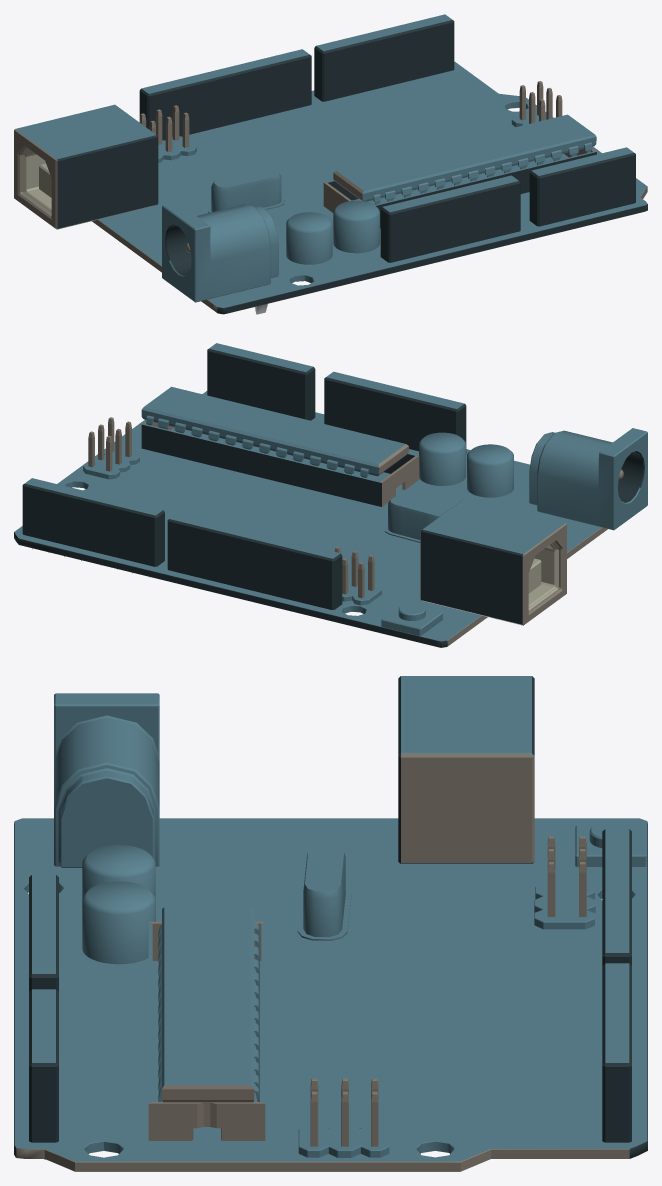
The model's file is Arduino_uno_r3_v2.fbx.
The picture shows the model from 3 angles, top to bottom: view 1: azimuth 30°, elevation 25°; view 2: azimuth 150°, elevation 25°; view 3: azimuth 270°, elevation 25°; orthographic projection. The views are drawn at different scales.
Visible parts, largest first — view 1: Arduino.006, Arduino.009, Arduino.008, Arduino.010, Arduino.005, Arduino.007, Arduino.004, Plane.003, Plane.001, Arduino.001; view 2: Arduino.009, Arduino.006, Arduino.010, Arduino.008, Arduino.005, Arduino.007, Arduino.004, Arduino.003, Plane.001, Plane.003, Arduino.002, Arduino.001; view 3: Arduino.006, Arduino.010, Arduino.008, Arduino.009, Arduino.005, Arduino.007, Arduino.004, Arduino.002, Arduino.001, Arduino.003, Plane.001, Plane.003.
Boxes of the visible parts, x1,y1,x2,y2 form: Arduino.006: (92,61,647,314); Arduino.009: (139,14,635,262); Arduino.008: (14,104,158,229); Arduino.010: (323,114,596,228); Arduino.005: (162,202,278,302); Arduino.007: (286,200,379,264); Arduino.004: (208,168,284,212); Plane.003: (139,105,189,152); Plane.001: (519,81,562,123); Arduino.001: (158,136,196,162); Arduino.009: (22,343,466,609); Arduino.006: (14,391,607,647); Arduino.010: (141,386,419,506); Arduino.008: (420,499,566,625); Arduino.005: (529,428,647,530); Arduino.007: (419,432,513,497); Arduino.004: (384,495,450,542); Arduino.003: (381,603,442,635); Plane.001: (88,417,131,471); Plane.003: (334,546,374,598); Arduino.002: (83,448,139,479); Arduino.001: (342,581,381,605); Arduino.006: (14,818,647,1171); Arduino.010: (148,907,265,1140); Arduino.008: (398,676,534,863); Arduino.009: (29,828,631,1142); Arduino.005: (54,693,159,867); Arduino.007: (82,845,155,964); Arduino.004: (297,845,351,940); Arduino.002: (298,1125,389,1157); Arduino.001: (534,884,595,929); Arduino.003: (575,821,646,866); Plane.001: (310,1078,378,1146); Plane.003: (547,836,586,916).
Size of what is drawn, in the model's own units: 989 by 194 by 704.
